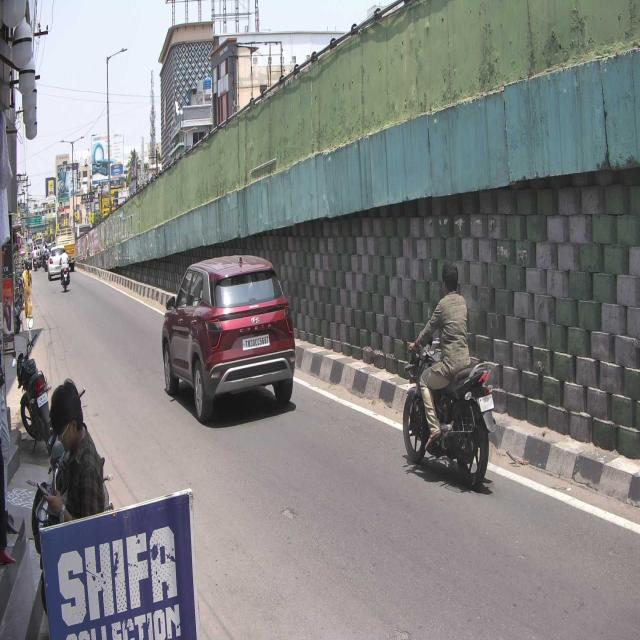single_rider: (402, 260, 496, 493)
